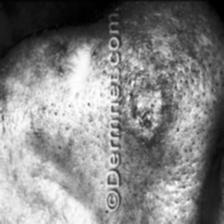Potentially Malignant Skin Tumors: (129, 84, 161, 138)
